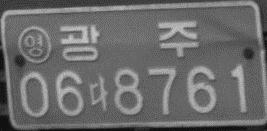0: (19, 71, 50, 120)
1: (222, 64, 253, 114)
6: (185, 64, 218, 113), (55, 70, 84, 117)
7: (146, 67, 177, 115)
8: (113, 68, 144, 114)
광주_D: (58, 20, 199, 63)
다: (88, 75, 109, 111)
영: (17, 25, 51, 65)
